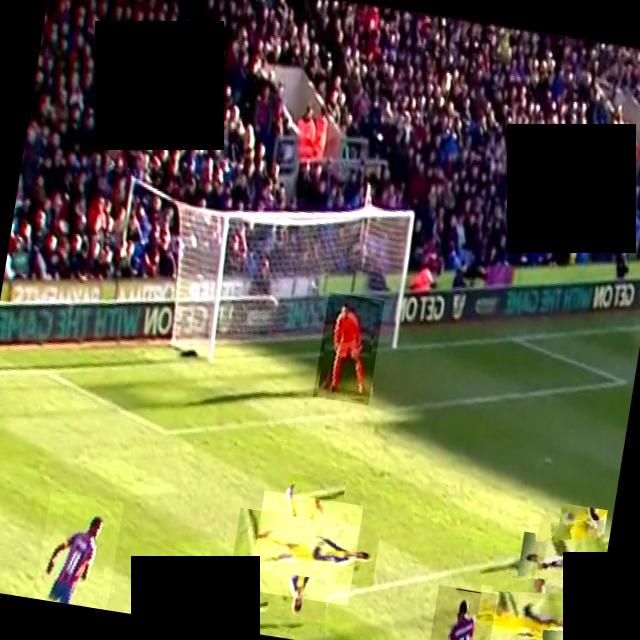goalkeeper: (312, 291, 384, 404)
soccer-player: (248, 490, 363, 604), (33, 490, 123, 610), (528, 512, 612, 607), (482, 567, 585, 640), (426, 584, 496, 640)
